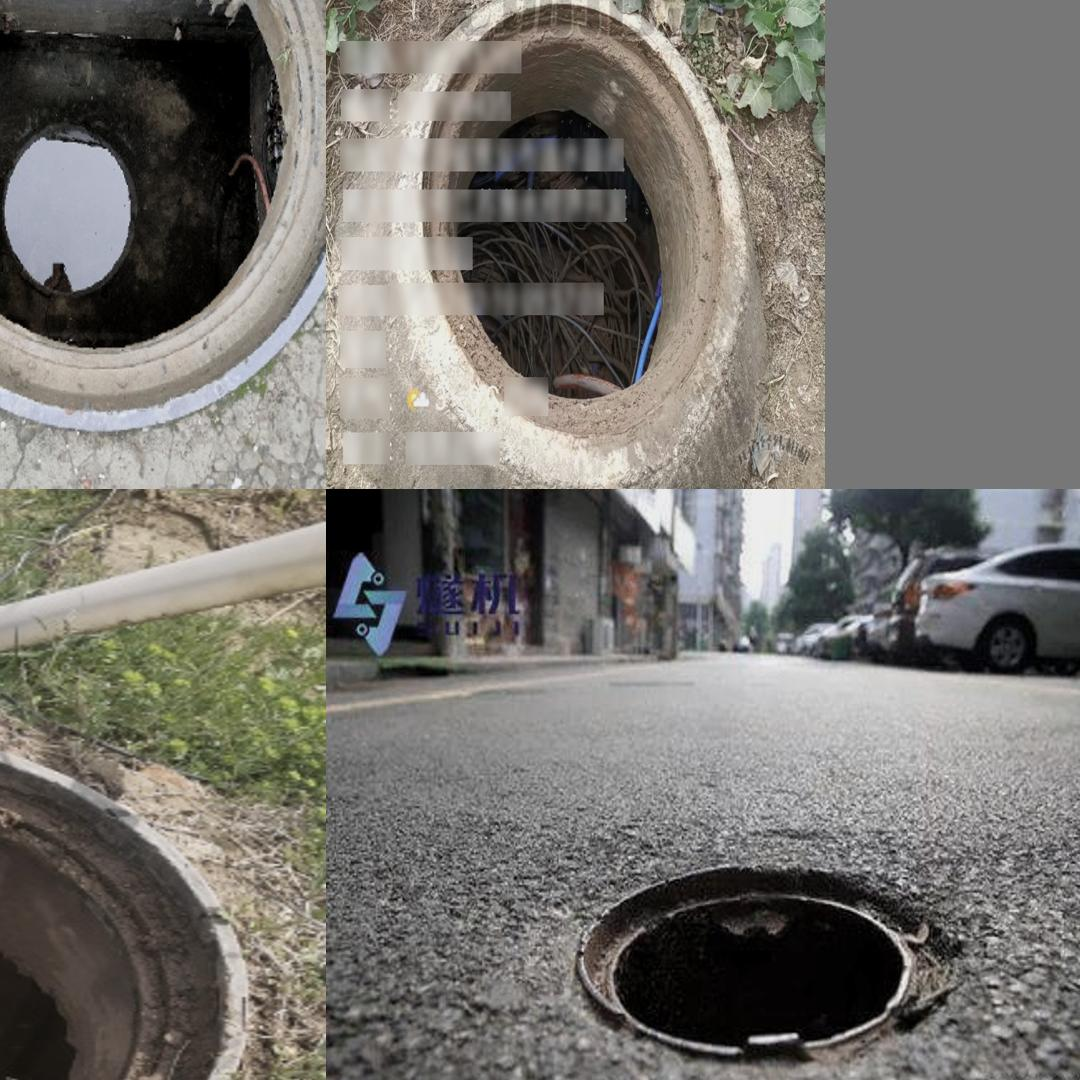lose: (395, 0, 752, 489), (0, 0, 322, 431), (0, 718, 248, 1080), (571, 852, 967, 1075)
